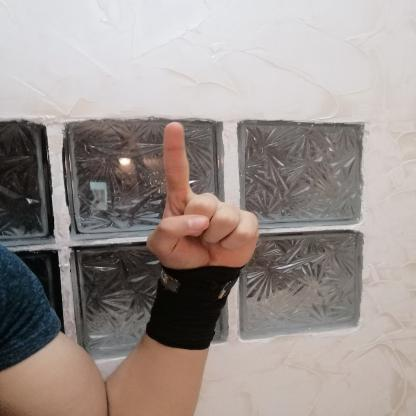BAA: (136, 114, 270, 283)
